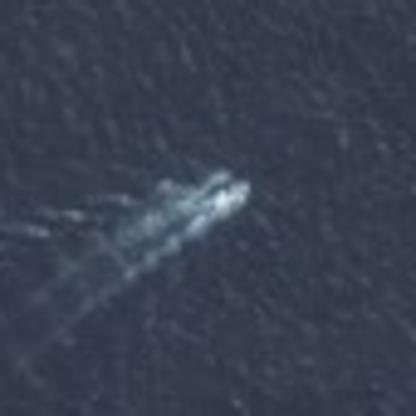ship: (180, 164, 258, 235)
